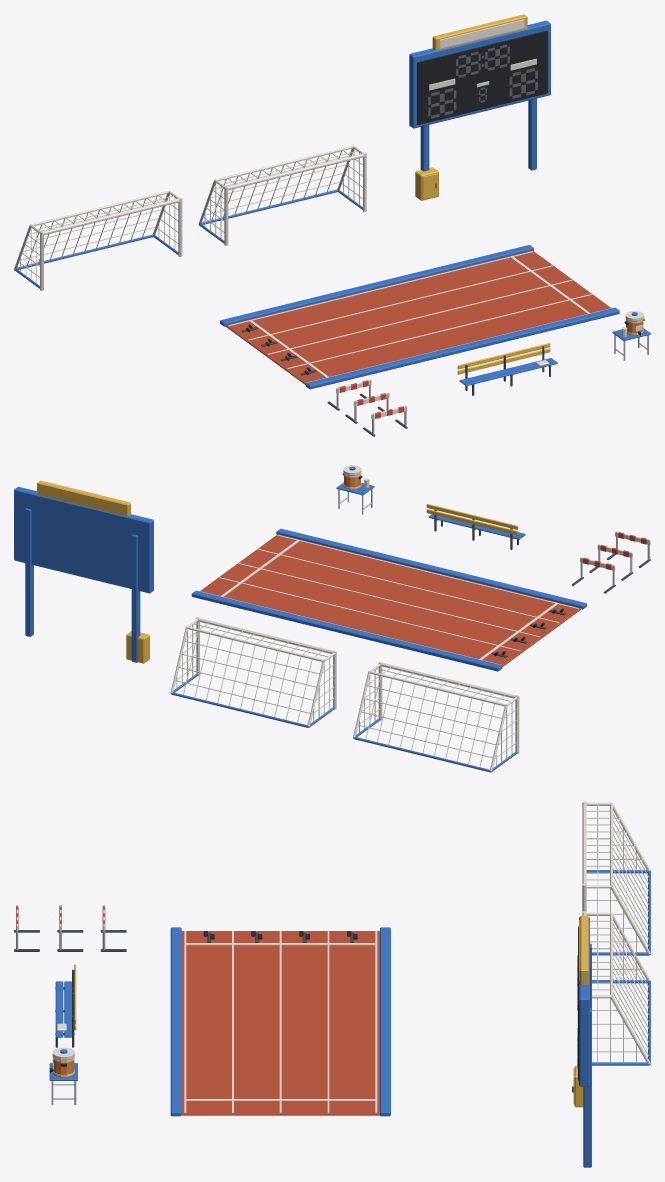
File: school-sports-field-set.glb
3 views of the same model, one above another, from view 1: azimuth 30°, elevation 25°; view 2: azimuth 150°, elevation 25°; view 3: azimuth 270°, elevation 25° (orthographic). The views are drawn at different scales.
Visible parts, largest first — view 1: TrackLane_Body, Scoreboard_Body, GoalPost_A_Frame, GoalPost_B_Frame, GoalPost_B_Net, GoalPost_A_Net, TeamBench_Body, WaterCooler_Body; view 2: TrackLane_Body, Scoreboard_Body, GoalPost_A_Net, GoalPost_A_Frame, GoalPost_B_Net, GoalPost_B_Frame, TeamBench_Body, WaterCooler_Body; view 3: TrackLane_Body, Scoreboard_Body, GoalPost_B_Net, GoalPost_A_Net, GoalPost_A_Frame, GoalPost_B_Frame, TeamBench_Body, WaterCooler_Body.
Boxes of the visible parts, box(x1,y1,x2,y2) form: TrackLane_Body: box(220, 245, 619, 389); Scoreboard_Body: box(409, 14, 550, 200); GoalPost_A_Frame: box(14, 190, 182, 290); GoalPost_B_Frame: box(198, 145, 366, 245); GoalPost_B_Net: box(203, 149, 362, 238); GoalPost_A_Net: box(18, 194, 178, 283); TeamBench_Body: box(457, 343, 557, 395); WaterCooler_Body: box(612, 318, 650, 360); TrackLane_Body: box(191, 528, 586, 671); Scoreboard_Body: box(14, 480, 153, 663); GoalPost_A_Net: box(358, 667, 516, 767); GoalPost_A_Frame: box(353, 661, 519, 772); GoalPost_B_Net: box(175, 623, 334, 722); GoalPost_B_Frame: box(170, 617, 336, 727); TeamBench_Body: box(426, 504, 525, 549); WaterCooler_Body: box(336, 473, 374, 514); TrackLane_Body: box(170, 927, 390, 1116); Scoreboard_Body: box(574, 915, 591, 1167); GoalPost_B_Net: box(590, 915, 648, 1062); GoalPost_A_Net: box(586, 805, 648, 952); GoalPost_A_Frame: box(582, 801, 650, 955); GoalPost_B_Frame: box(582, 911, 650, 1065); TeamBench_Body: box(55, 964, 76, 1047); WaterCooler_Body: box(49, 1057, 77, 1105).
Bounding box in the file's own units: 66.2 × 19.5 × 58.74.
